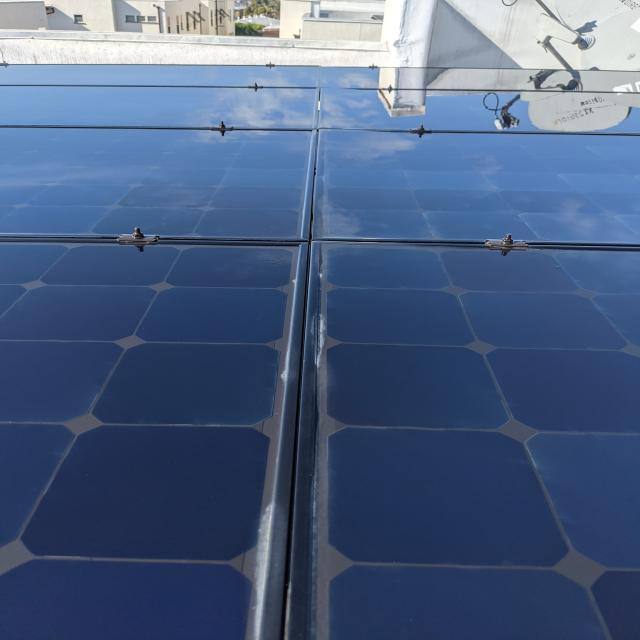Non Defective: (2, 65, 638, 639), (2, 240, 638, 640)
